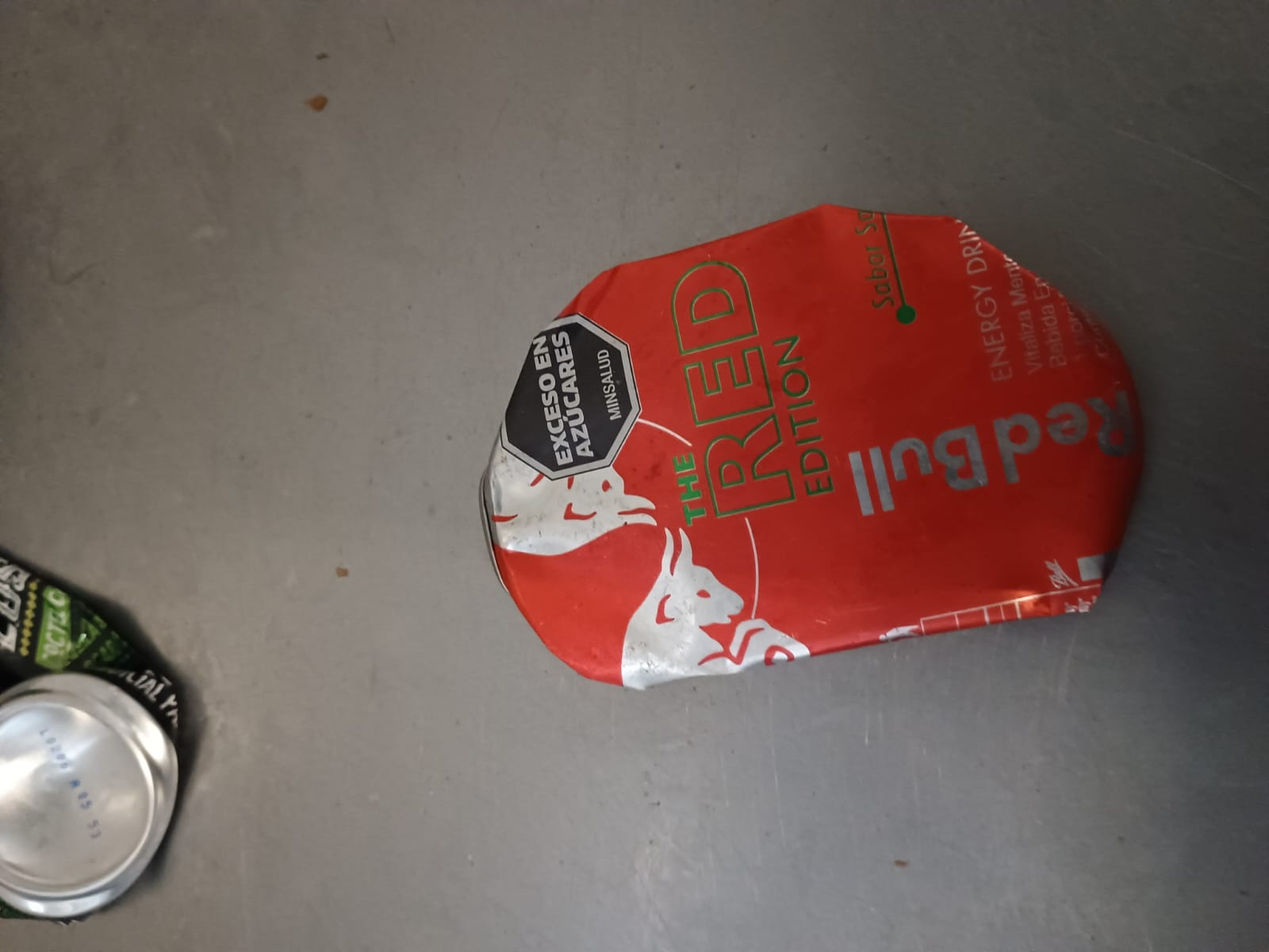Metal: (483, 206, 1147, 689), (0, 548, 204, 923)
